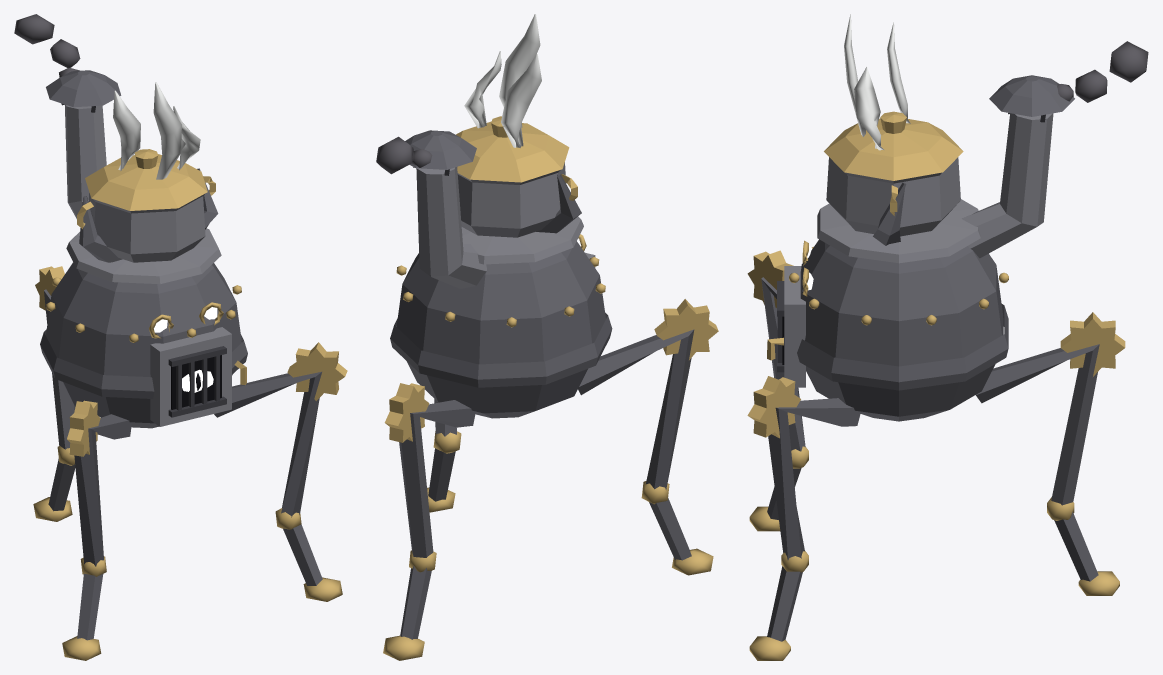
The model's file is fiend-three-legged-stove.glb.
The picture shows the model from 3 angles, left to right: view 1: azimuth 30°, elevation 25°; view 2: azimuth 150°, elevation 25°; view 3: azimuth 270°, elevation 25°; orthographic projection. The views are drawn at different scales.
Parts seen in each view (by area): view 1: fiend_three_legged_stove; view 2: fiend_three_legged_stove; view 3: fiend_three_legged_stove.
Part boxes in pixels (x1=…): fiend_three_legged_stove: x1=14, y1=14, x2=347, y2=660; fiend_three_legged_stove: x1=376, y1=14, x2=718, y2=660; fiend_three_legged_stove: x1=747, y1=14, x2=1148, y2=660.
Bounding box in the file's own units: 0.6628 × 1.18 × 0.7446.
